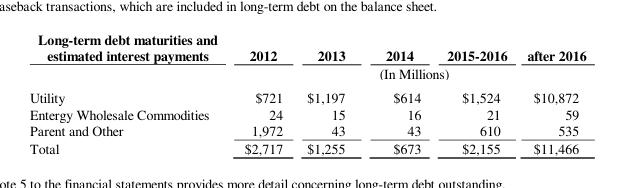table: (28, 29, 585, 156)
table column: (28, 29, 230, 156), (433, 29, 516, 156), (294, 29, 364, 156), (364, 29, 433, 156), (516, 29, 585, 156), (230, 29, 294, 156)
table column header: (28, 29, 585, 84)
table row: (28, 29, 585, 63), (28, 63, 585, 84), (28, 84, 585, 105), (28, 138, 585, 156), (28, 121, 585, 138), (28, 105, 585, 121)
table spanning cell: (28, 29, 230, 84), (230, 63, 585, 84)
